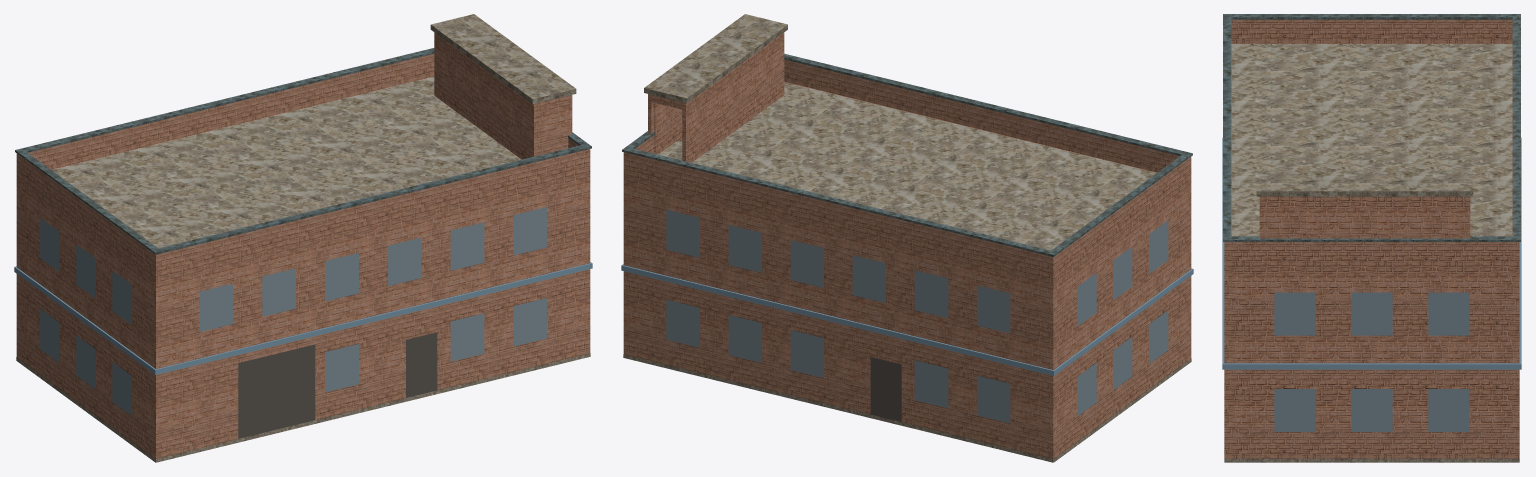
Rendered from ew-workshop.zfix-v8.lod1.glb.
The picture shows the model from 3 angles, left to right: view 1: azimuth 30°, elevation 25°; view 2: azimuth 150°, elevation 25°; view 3: azimuth 270°, elevation 25°; orthographic projection. The views are drawn at different scales.
Visible parts, largest first — view 1: ew-workshop; view 2: ew-workshop; view 3: ew-workshop.
Part boxes in pixels (left/top/right/bottom): ew-workshop: left=14, top=14, right=592, bottom=462; ew-workshop: left=621, top=14, right=1193, bottom=462; ew-workshop: left=1222, top=14, right=1521, bottom=462.
Size of the model in its own units: 18.12 by 10.16 by 10.12.
Materials: 3 (2 with a texture image).
